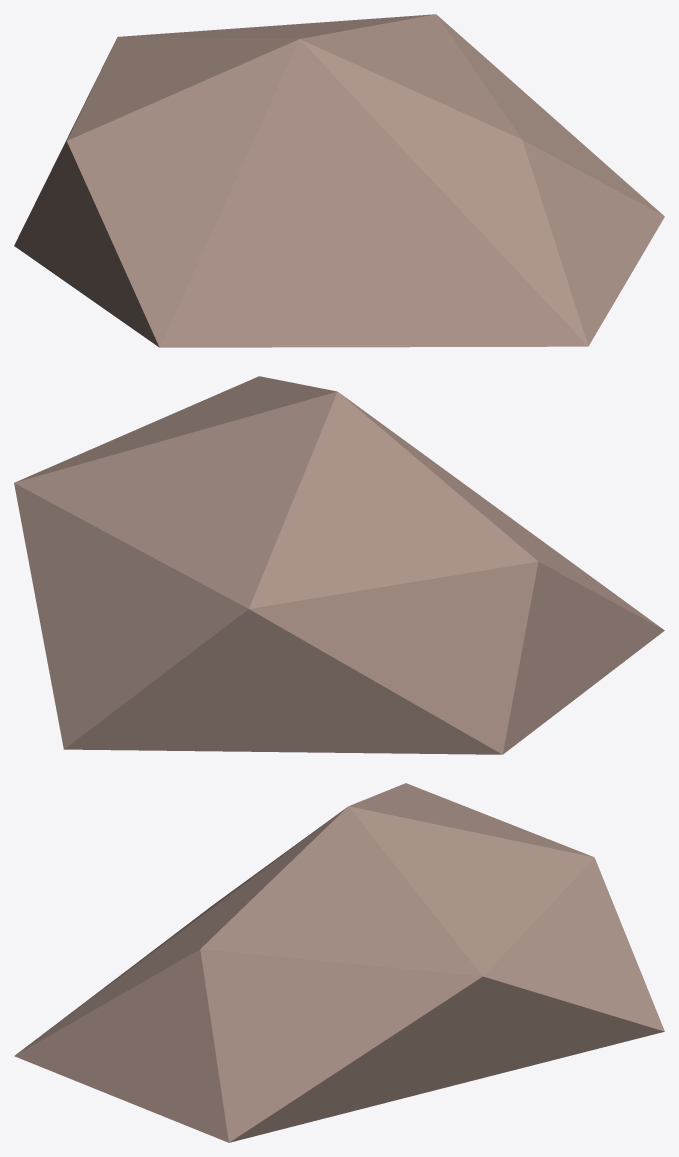
Rendered from Rock4.fbx.
The picture shows the model from 3 angles, top to bottom: view 1: azimuth 30°, elevation 25°; view 2: azimuth 150°, elevation 25°; view 3: azimuth 270°, elevation 25°; orthographic projection. The views are drawn at different scales.
Visible parts, largest first — view 1: rock_GEO1; view 2: rock_GEO1; view 3: rock_GEO1.
Boxes of the visible parts, box(x1,y1,x2,y2) form: rock_GEO1: box(14, 14, 664, 347); rock_GEO1: box(14, 376, 664, 754); rock_GEO1: box(14, 783, 664, 1142).
Bounding box in the file's own units: 23.09 × 8.85 × 26.45.
